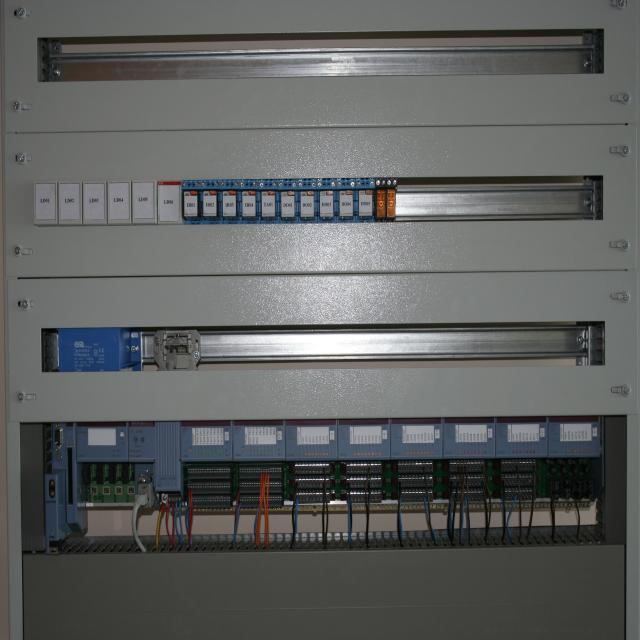Dimmer: (158, 180, 182, 224), (58, 181, 82, 224), (34, 180, 57, 224), (132, 180, 156, 222), (108, 180, 131, 223), (83, 181, 106, 223), (355, 178, 375, 222), (336, 178, 356, 222), (259, 179, 279, 223), (239, 179, 259, 223), (182, 180, 202, 223), (279, 178, 298, 223), (298, 178, 317, 222), (317, 179, 336, 222), (220, 180, 239, 223), (201, 180, 220, 223)
SPS_System_Steuerungskomponente: (128, 421, 180, 490), (232, 419, 285, 461), (285, 419, 338, 460), (390, 418, 443, 459), (443, 417, 496, 458), (76, 421, 128, 462), (181, 420, 233, 461), (338, 418, 390, 459), (496, 416, 548, 457), (548, 415, 600, 456)
